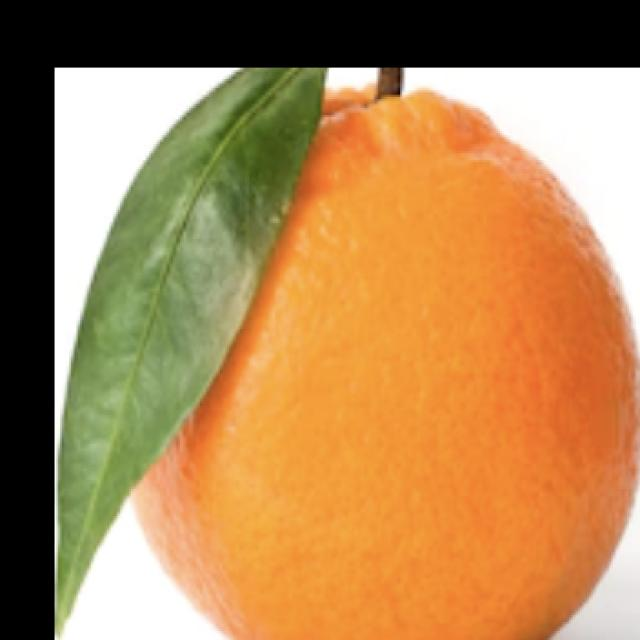orange: (123, 78, 640, 640)
